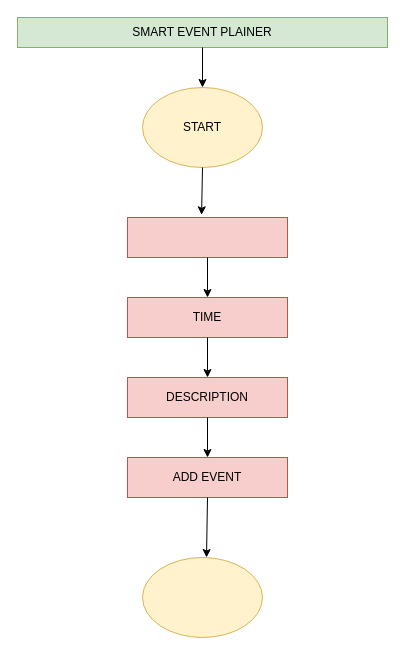
The diagram is 405 pixels wide and 655 high, and some of its shapes have lost their labels. The centre of each missing label's shape, as x and y in pixels:
"DATE" belongs at (x=207, y=237).
"END" belongs at (x=202, y=597).
